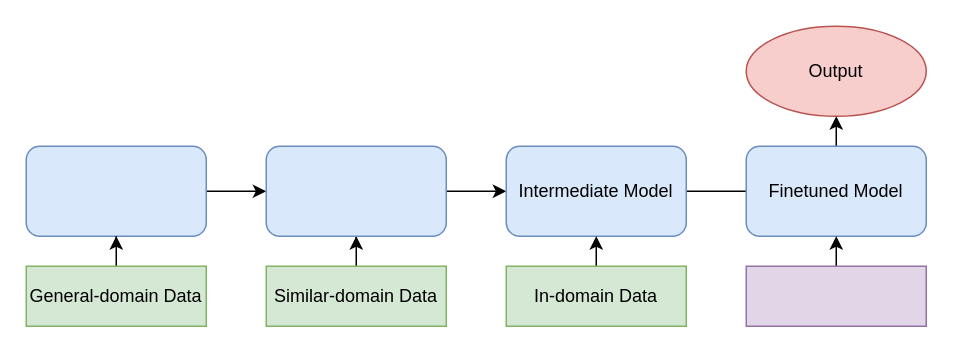
The diagram is 953 pixels wide and 353 high, and some of its shapes have lost their labels. Each missing label, with the centre of its shape:
"Baseline Model" belongs at (355,190).
"Initialize model" belongs at (115,190).
"Test Data" belongs at (835,295).
